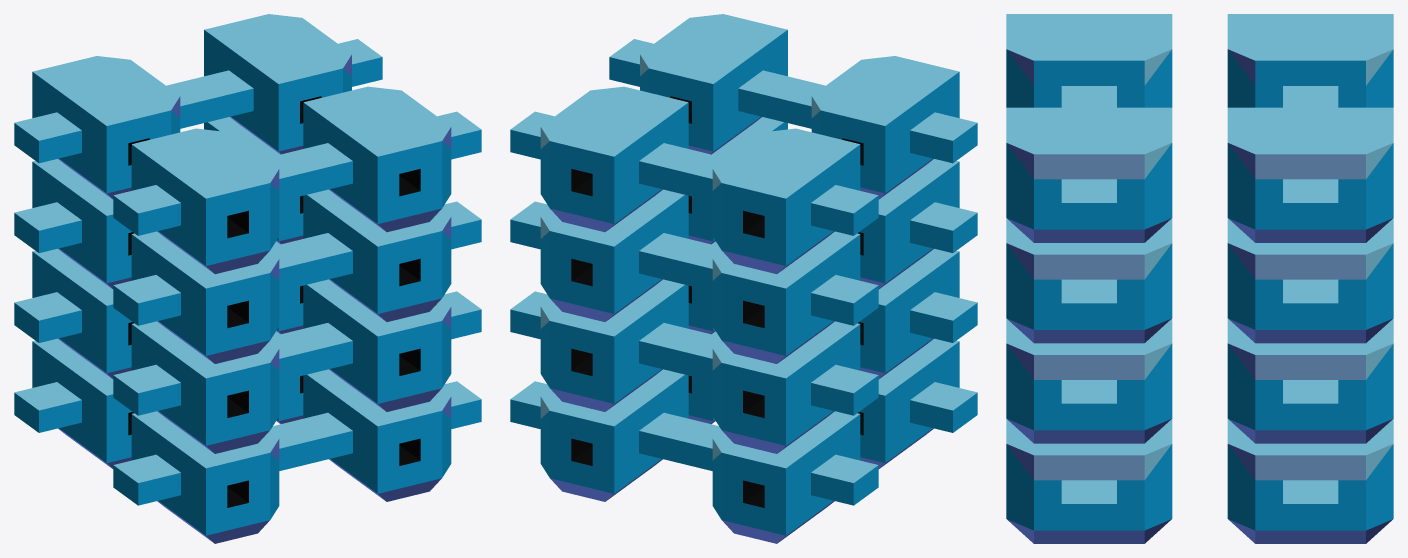
Rendered from br-m-spine-blue.fbx.
3 views of the same model, side by side, from view 1: azimuth 30°, elevation 25°; view 2: azimuth 150°, elevation 25°; view 3: azimuth 270°, elevation 25° (orthographic). The views are drawn at different scales.
Visible parts, largest first — view 1: pCube647; view 2: pCube647; view 3: pCube647.
Boxes of the visible parts, x1,y1,x2,y2 form: pCube647: (14, 14, 481, 543); pCube647: (510, 14, 977, 543); pCube647: (1006, 14, 1393, 543).
Bounding box in the file's own units: 1 × 1 × 0.875.
